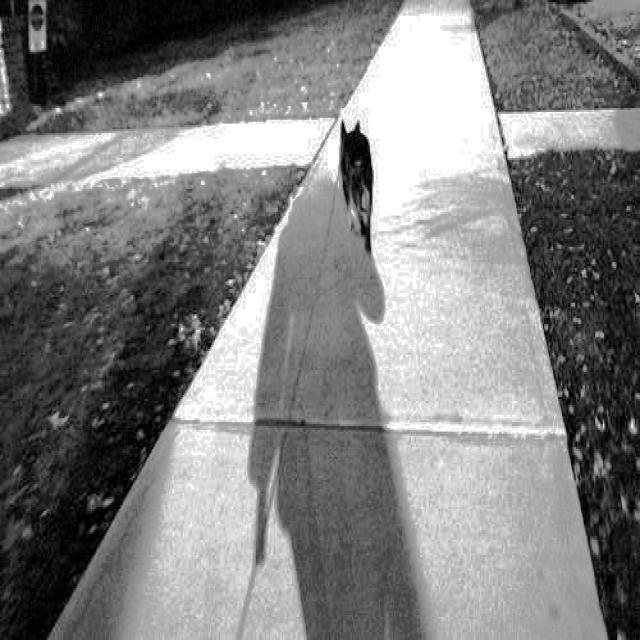Dog: (316, 102, 416, 242)
